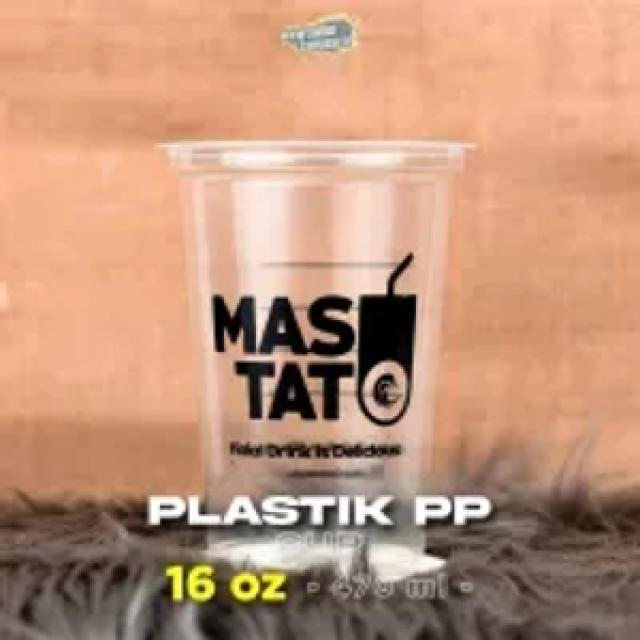plastic cup: (149, 132, 480, 582)
